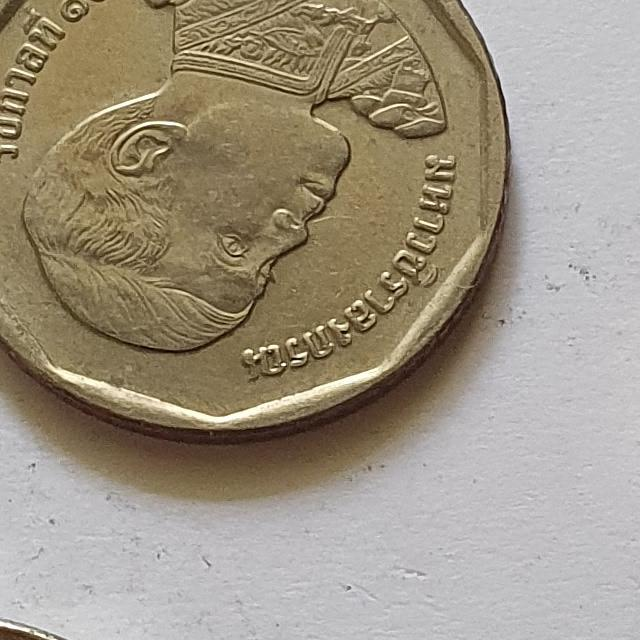5 Bath: (2, 1, 520, 443)
